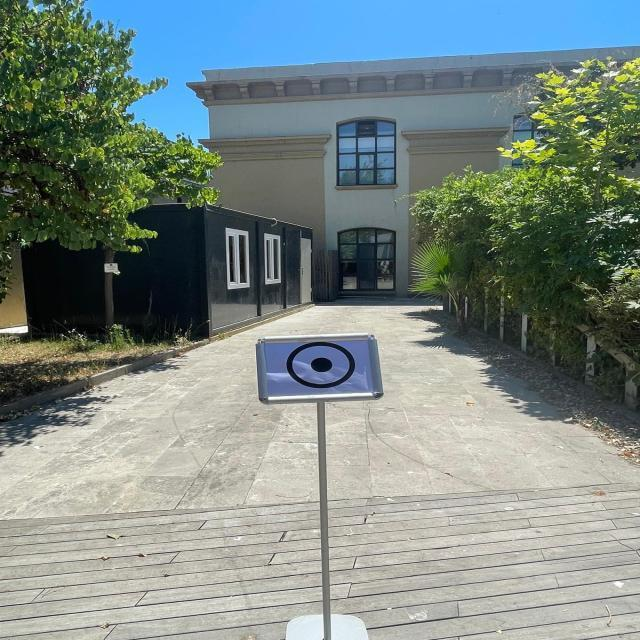Target: (240, 330, 402, 407)
inner: (308, 353, 338, 378)
